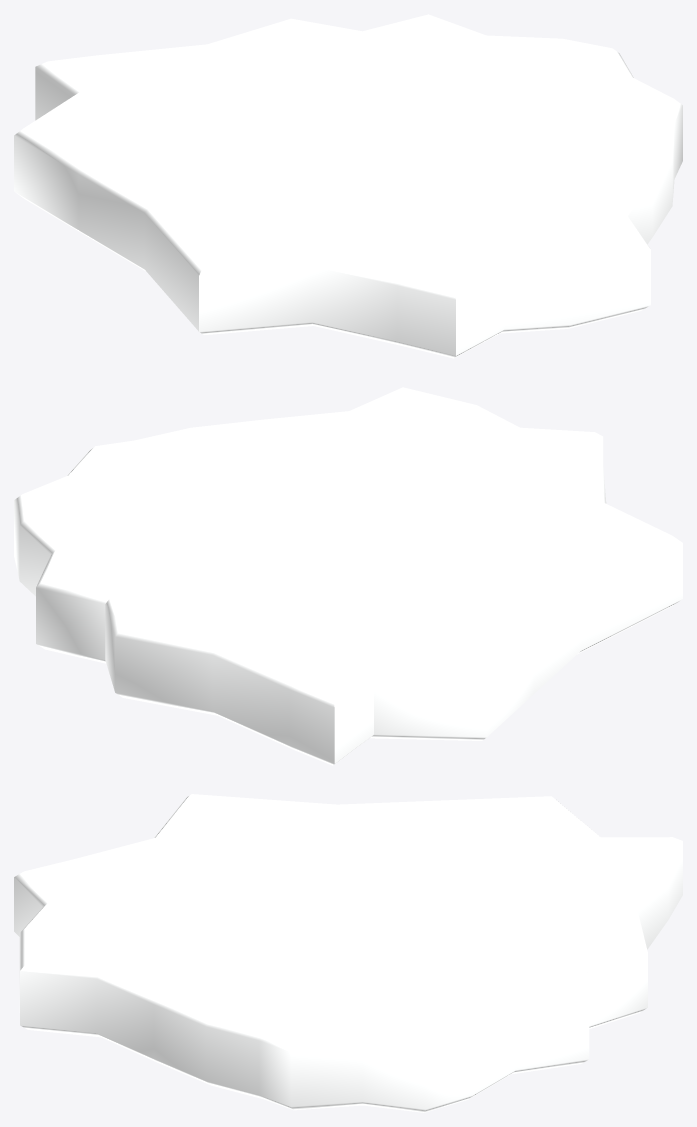
File: ice_floe_medium_001.glb
The picture shows the model from 3 angles, top to bottom: view 1: azimuth 30°, elevation 25°; view 2: azimuth 150°, elevation 25°; view 3: azimuth 270°, elevation 25°; orthographic projection. The views are drawn at different scales.
Visible parts, largest first — view 1: ice_floe_medium_001; view 2: ice_floe_medium_001; view 3: ice_floe_medium_001.
Part boxes in pixels (x1=…): ice_floe_medium_001: x1=14, y1=14, x2=682, y2=358; ice_floe_medium_001: x1=14, y1=387, x2=682, y2=765; ice_floe_medium_001: x1=14, y1=794, x2=682, y2=1112.
Bounding box in the file's own units: 7.21 × 0.8944 × 7.91.
1 material, 1 textured.
